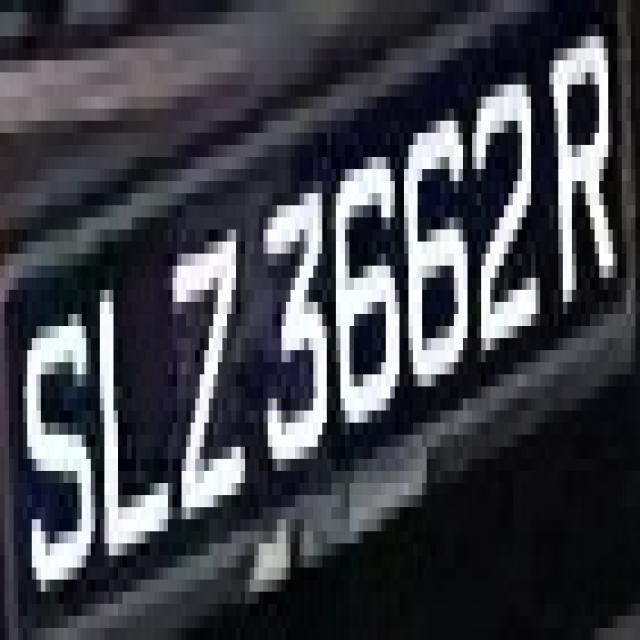2: (458, 37, 554, 374)
3: (245, 181, 336, 495)
6: (386, 72, 472, 410), (327, 133, 413, 435)
L: (86, 242, 177, 592)
R: (540, 0, 622, 302)
S: (14, 266, 104, 616)
Z: (163, 218, 254, 568)
